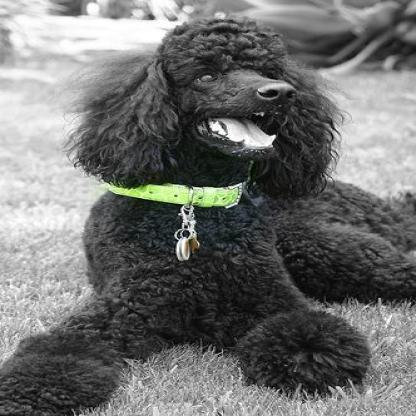standard_poodle: (0, 10, 411, 413)
